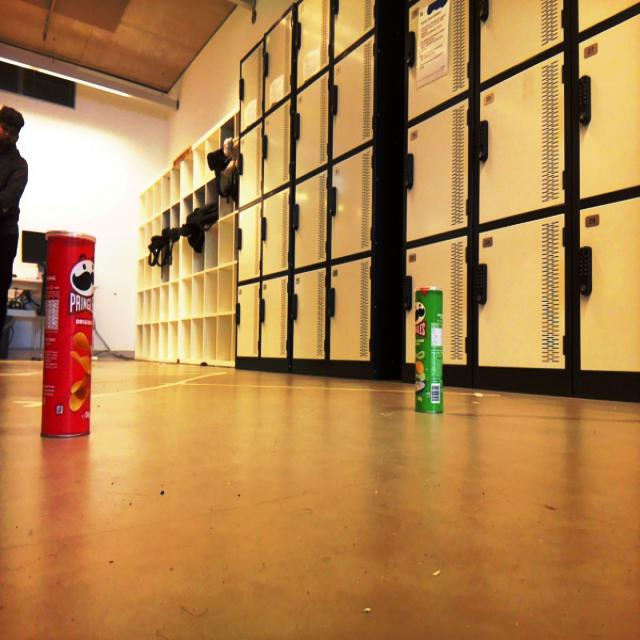greenpringles: (406, 266, 464, 428)
redpringles: (36, 202, 98, 446)
